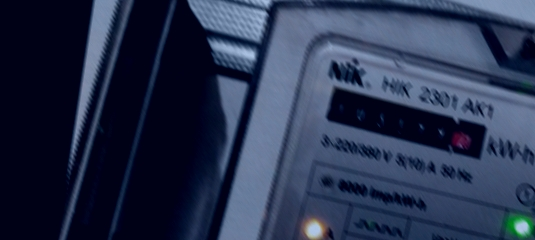0: (330, 98, 345, 119), (352, 102, 366, 123)
1: (394, 110, 405, 130)
3: (372, 109, 384, 130)
6: (453, 136, 465, 153)
9: (432, 124, 445, 143), (413, 117, 425, 136)
screen: (315, 82, 495, 168)
